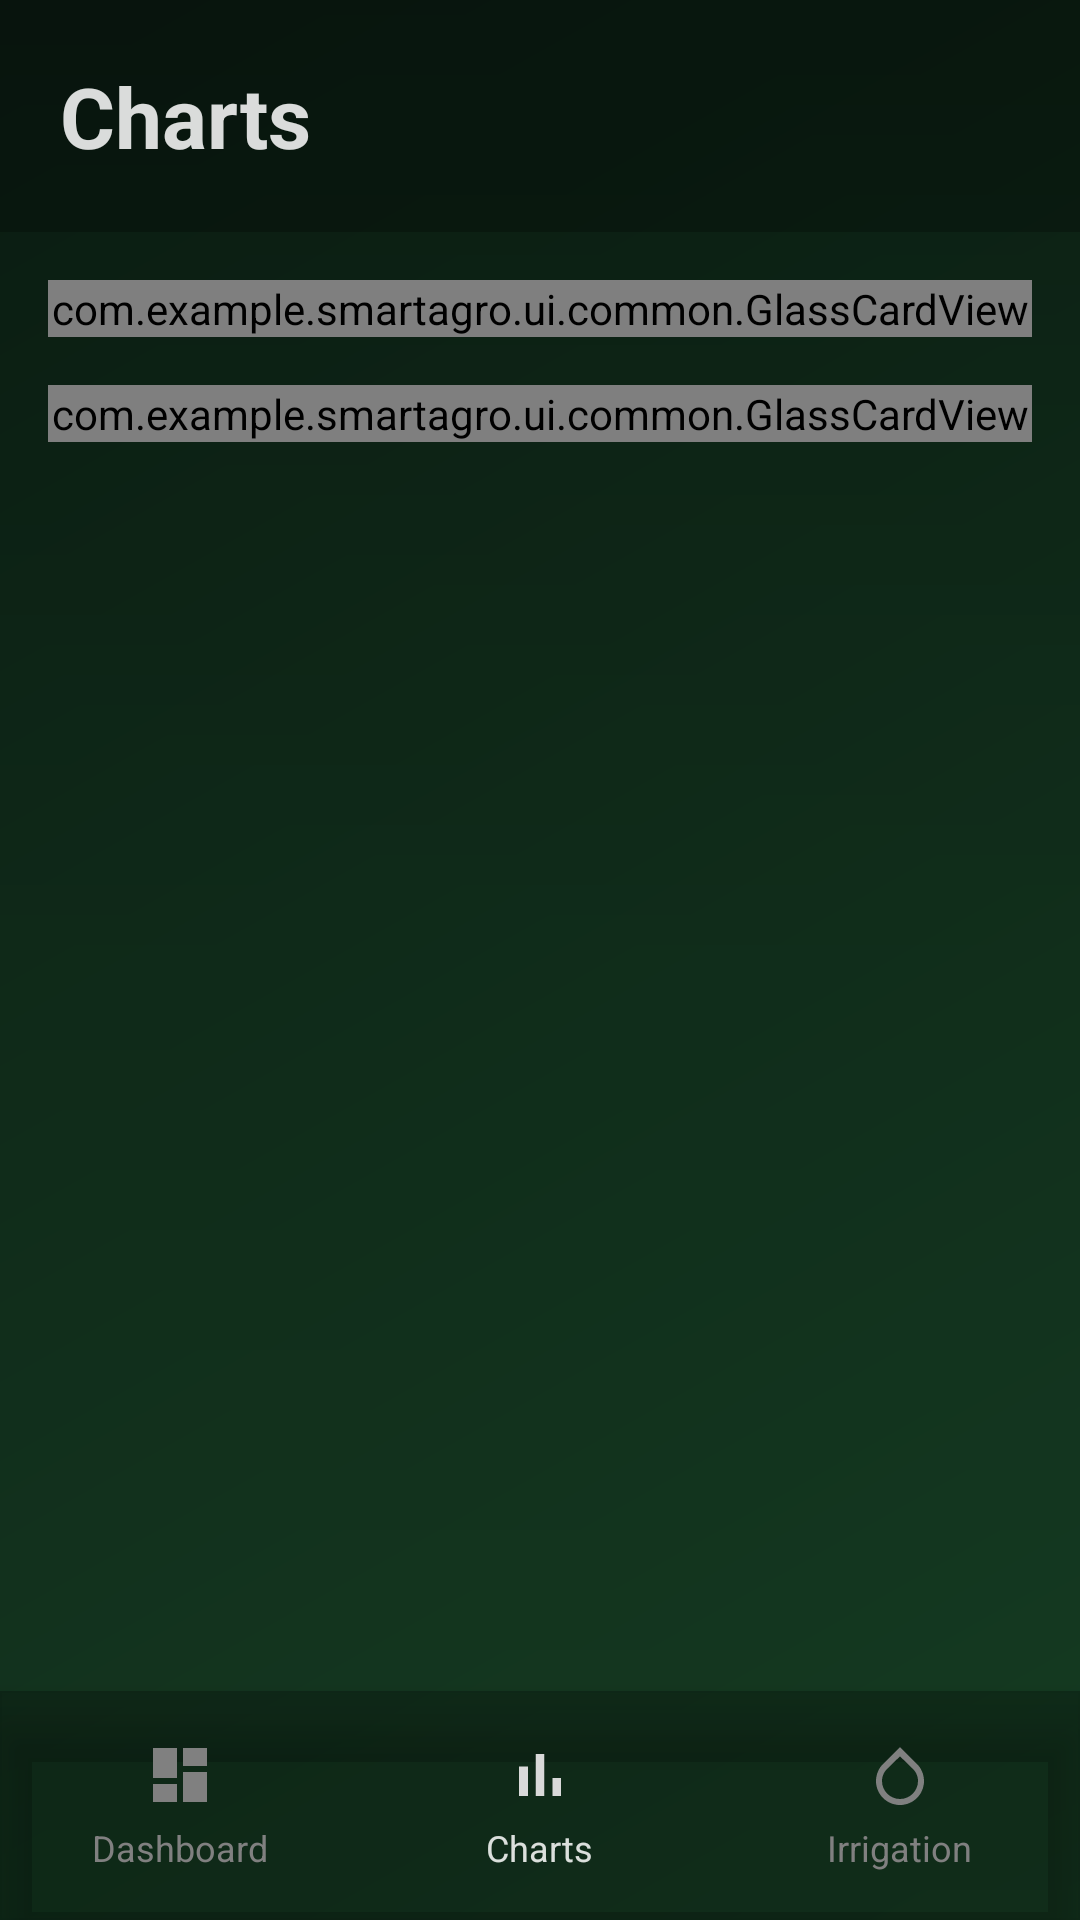

Named icons in this screenshot (1080 x 1920) and their bounding boxes, [x1, y1, x2, y2]:
bar chart: [519, 1754, 561, 1796]
water drop nav: [876, 1747, 924, 1805]
